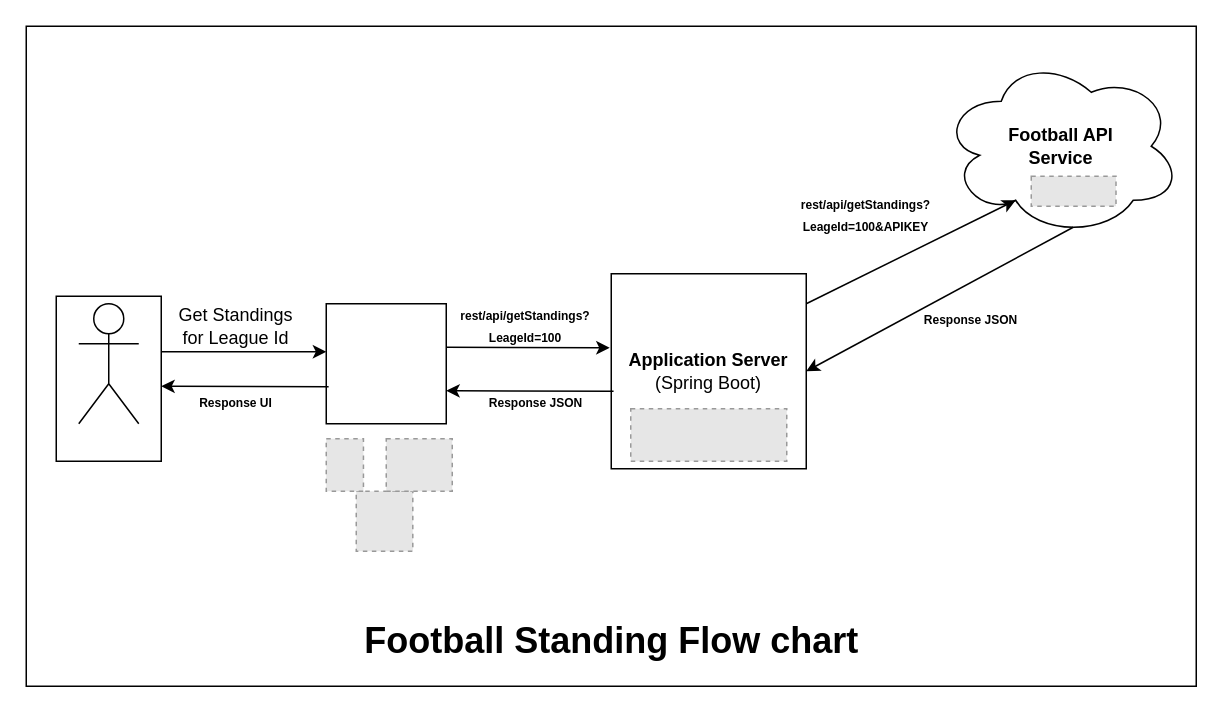
Some shapes in this 1223 by 713 pixel diagram are drawn without their labels. Grey dashed boxes stand in for pictures. The centre of each missing label's shape, as x and y in pixels:
User: point (108, 363)
Web Server (Angular App): point (385, 363)
